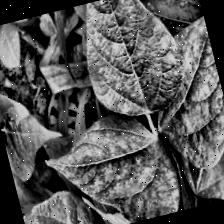Bean Rust: (124, 0, 224, 177), (71, 0, 192, 126), (0, 86, 70, 183), (19, 186, 98, 224)
